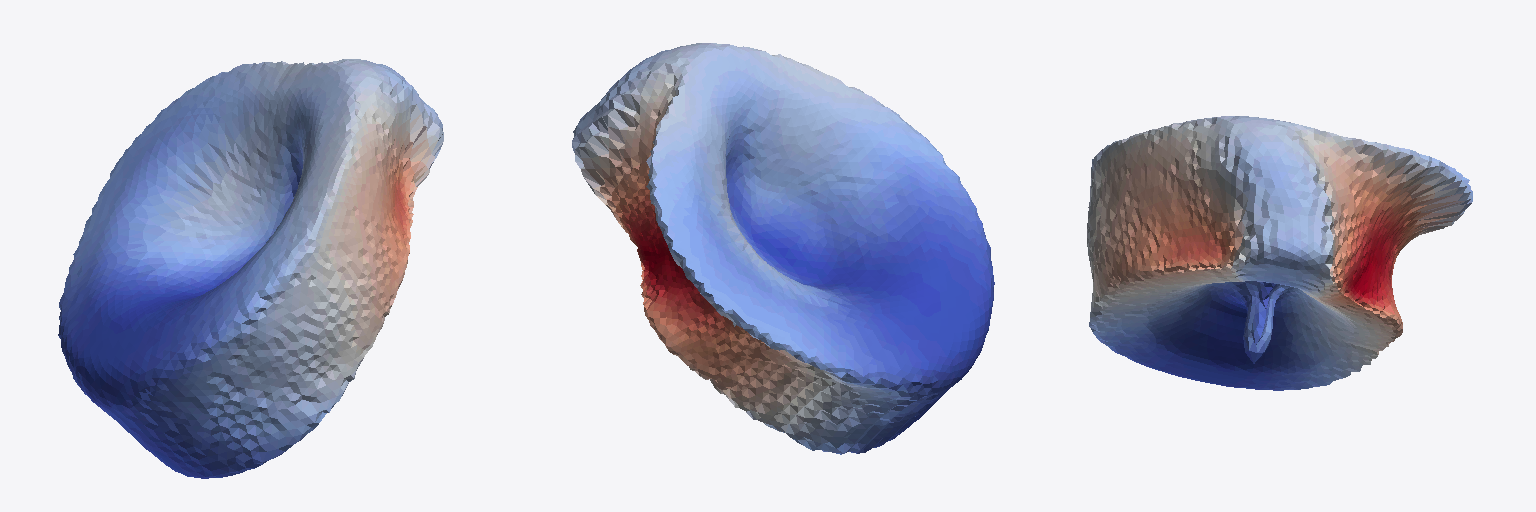
File: colored_model.obj
The picture shows the model from 3 angles: view 1: azimuth 30°, elevation 25°; view 2: azimuth 150°, elevation 25°; view 3: azimuth 270°, elevation 25°; orthographic projection.
Bounding box in the file's own units: 16.95 × 15.65 × 15.51.